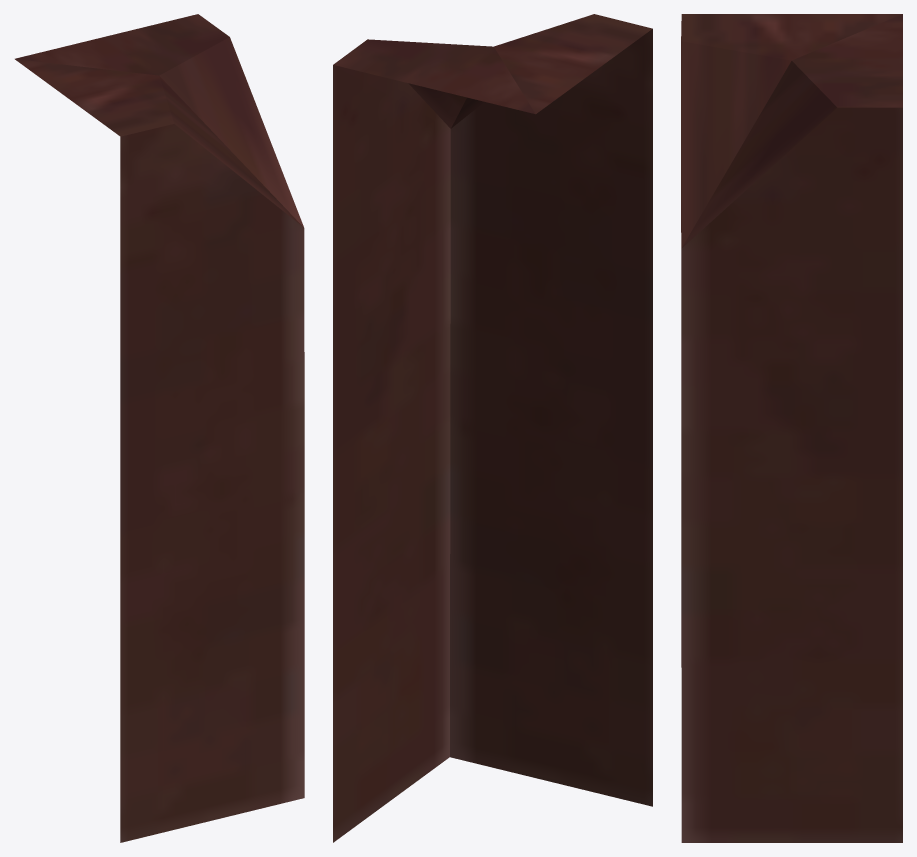
File: lava_broken_convex_01.fbx
The picture shows the model from 3 angles, left to right: view 1: azimuth 30°, elevation 25°; view 2: azimuth 150°, elevation 25°; view 3: azimuth 270°, elevation 25°; orthographic projection. The views are drawn at different scales.
Parts seen in each view (by area): view 1: obj0.107; view 2: obj0.107; view 3: obj0.107.
Part boxes in pixels (x1,y1,x2,y2): obj0.107: (15, 14, 304, 842); obj0.107: (333, 14, 652, 842); obj0.107: (681, 14, 902, 842).
Bounding box in the file's own units: 0.3755 × 1.38 × 0.376.
